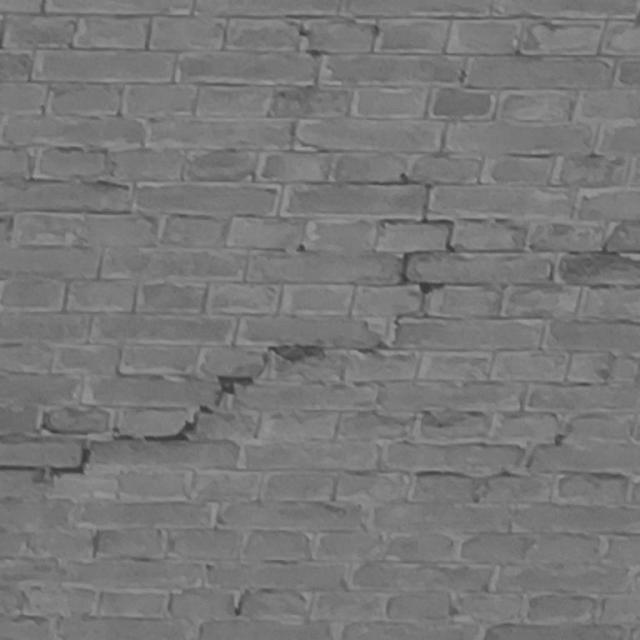crack: (1, 342, 322, 478)
